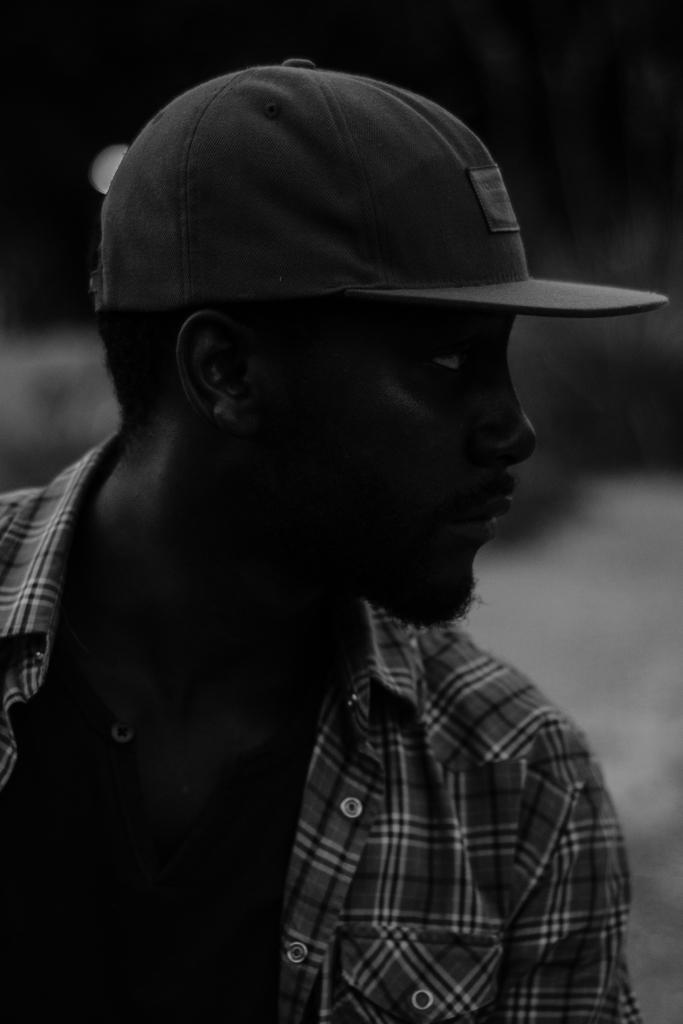Hat: (105, 44, 588, 464)
